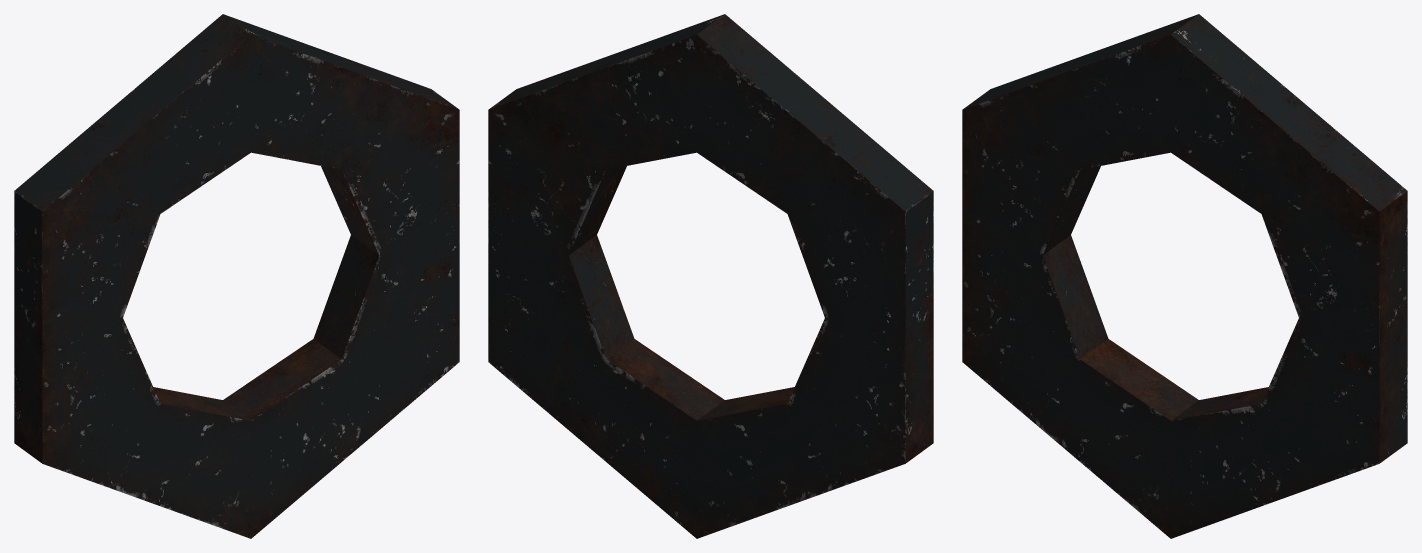
The model's file is Nakretka2.gltf.
The picture shows the model from 3 angles, left to right: view 1: azimuth 30°, elevation 25°; view 2: azimuth 150°, elevation 25°; view 3: azimuth 330°, elevation 25°; orthographic projection.
Parts seen in each view (by area): view 1: Cylinder.007; view 2: Cylinder.007; view 3: Cylinder.007.
Boxes of the visible parts, x1,y1,x2,y2 form: Cylinder.007: (14, 14, 459, 538); Cylinder.007: (488, 14, 933, 538); Cylinder.007: (962, 14, 1407, 538).
Bounding box in the file's own units: 2.39 × 2.76 × 0.2799.
1 material, 1 textured.
